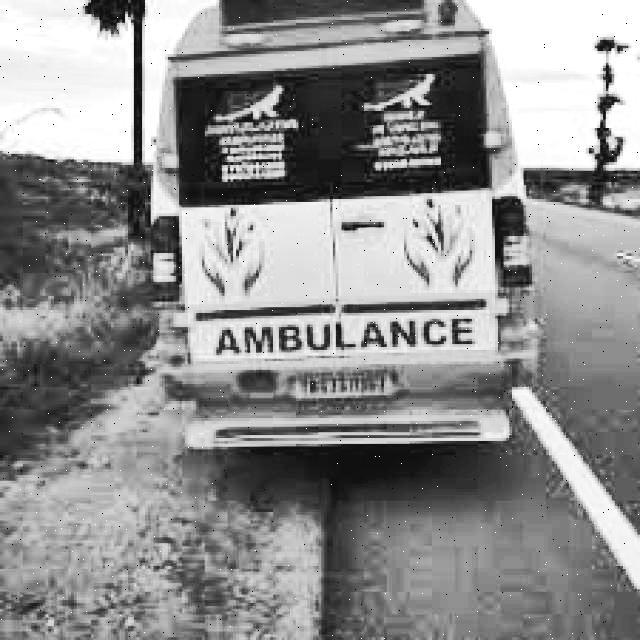LCV: (150, 0, 540, 445)
